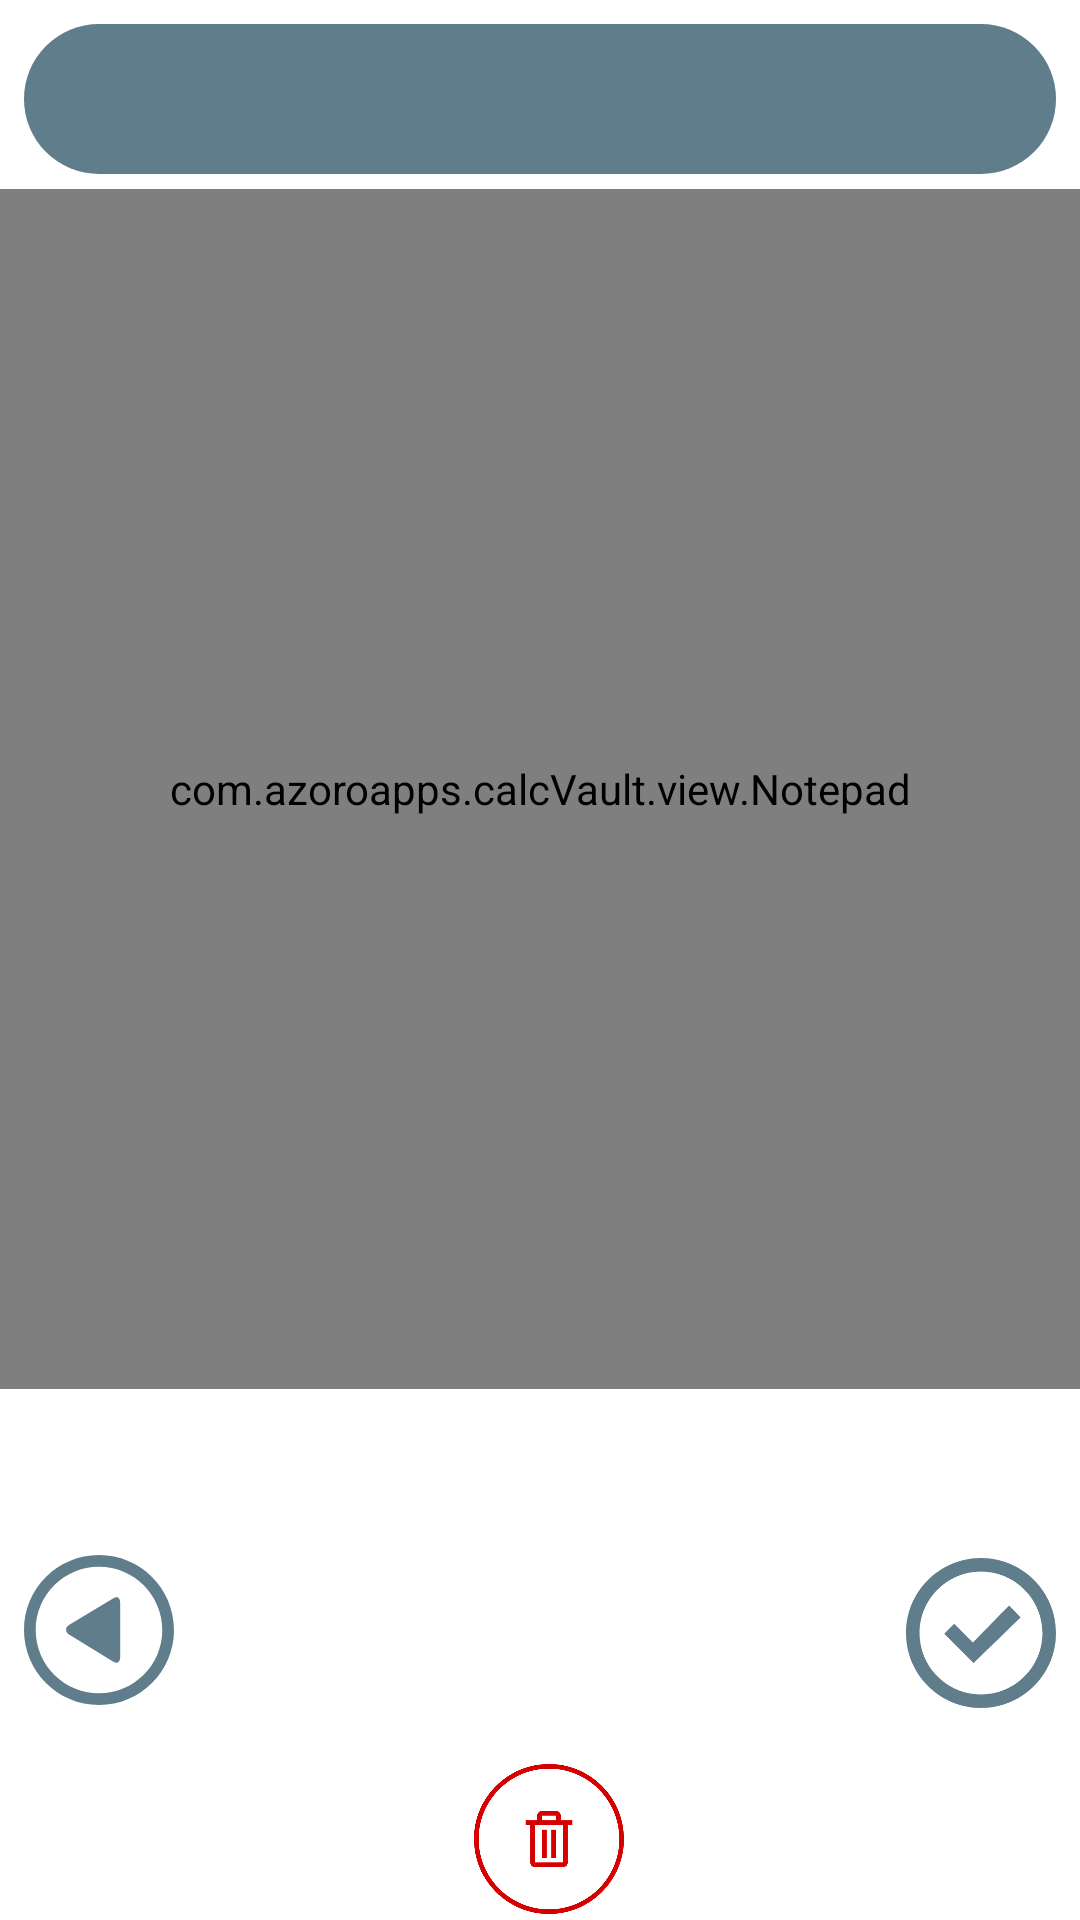

Icon bounding boxes for this 1080 x 1920 phone screenshot, format (x1, y1, x2, y2):
done: (906, 1558, 1056, 1708)
trash can circular: (474, 1764, 624, 1914)
